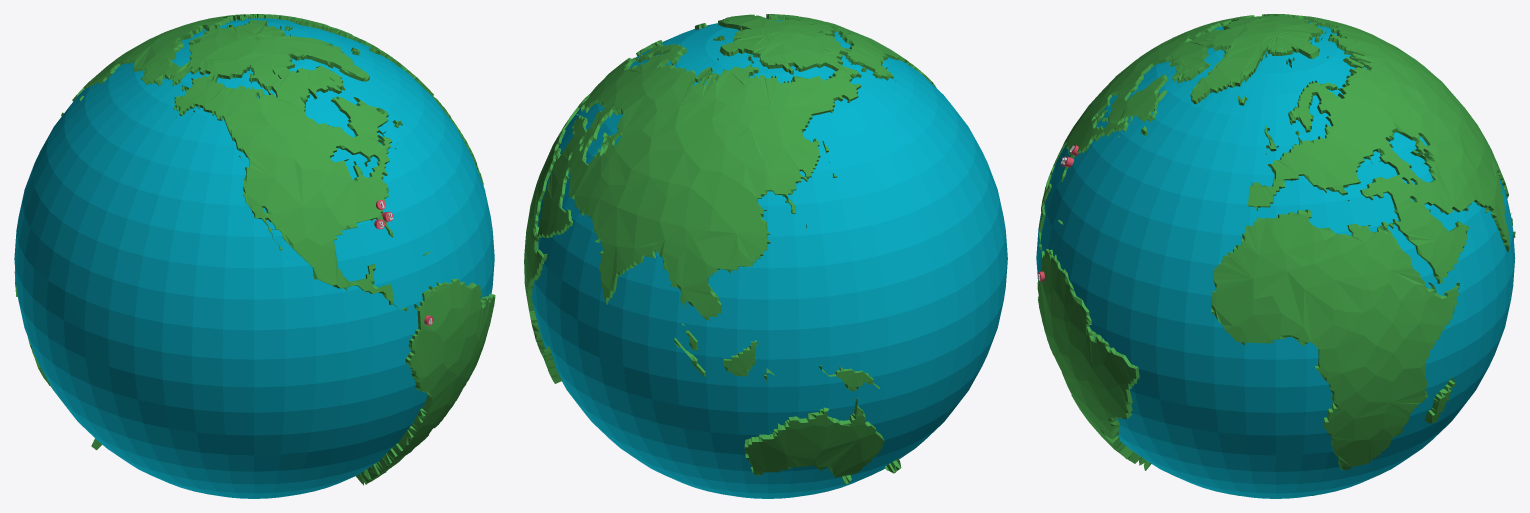
Rendered from Globe3.glb.
3 renders of one model, left to right at view 1: azimuth 30°, elevation 25°; view 2: azimuth 150°, elevation 25°; view 3: azimuth 270°, elevation 25°, orthographic.
Visible parts, largest first — view 1: Mesh_Mesh_head_geo.001_lambert2SG.001; view 2: Mesh_Mesh_head_geo.001_lambert2SG.001; view 3: Mesh_Mesh_head_geo.001_lambert2SG.001.
Part boxes in pixels (x1=…): Mesh_Mesh_head_geo.001_lambert2SG.001: x1=14, y1=14, x2=495, y2=498; Mesh_Mesh_head_geo.001_lambert2SG.001: x1=524, y1=14, x2=1007, y2=498; Mesh_Mesh_head_geo.001_lambert2SG.001: x1=1036, y1=14, x2=1515, y2=498.
Bounding box in the file's own units: 146 × 147 × 145.
